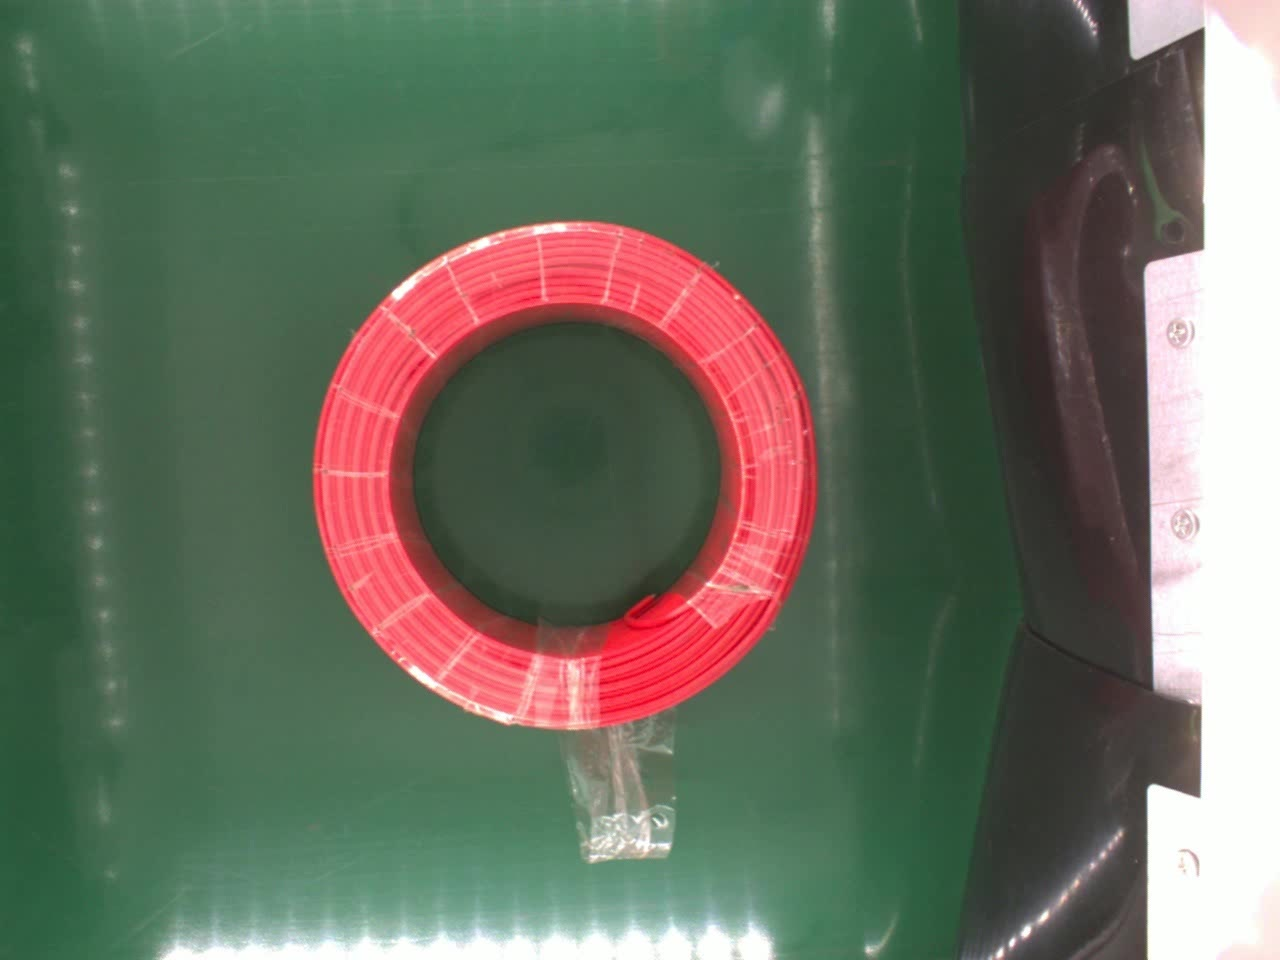red: (308, 213, 827, 736)
